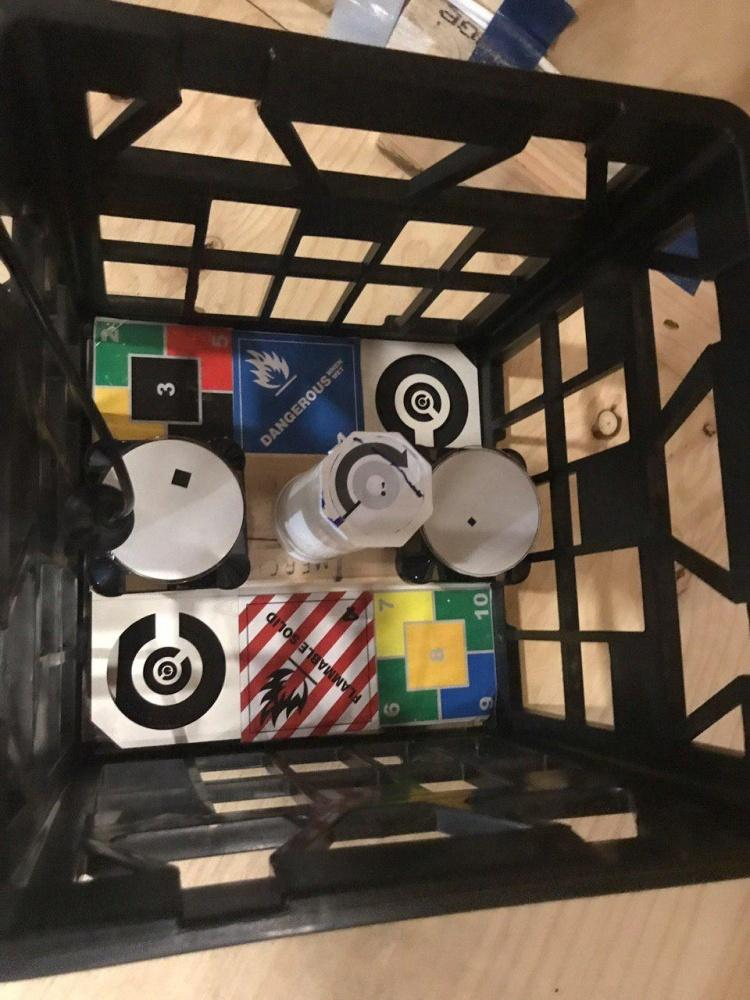dangerous-when-wet: (232, 331, 371, 457)
flammable-solid: (236, 589, 382, 744)
